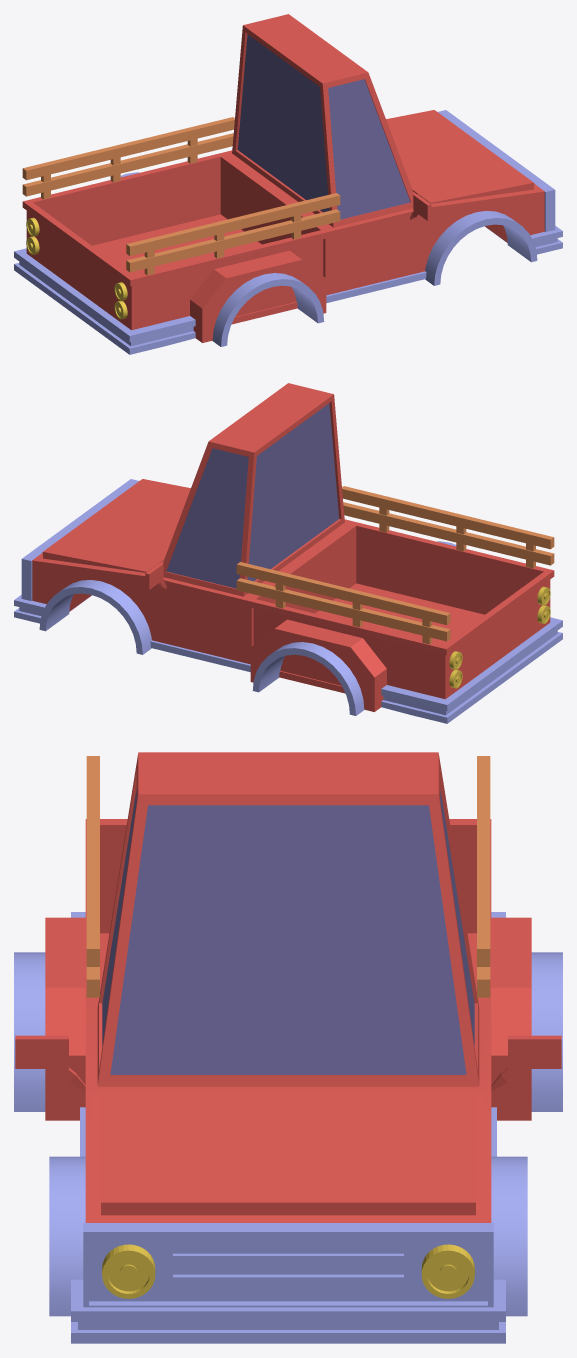
File: Truck.fbx
3 views of the same model, one above another, from view 1: azimuth 30°, elevation 25°; view 2: azimuth 150°, elevation 25°; view 3: azimuth 270°, elevation 25° (orthographic). The views are drawn at different scales.
Parts seen in each view (by area): view 1: Cube.001; view 2: Cube.001; view 3: Cube.001.
Part boxes in pixels (<box>): Cube.001: <box>14,14,562,354</box>; Cube.001: <box>14,383,562,723</box>; Cube.001: <box>14,752,562,1343</box>.
Bounding box in the file's own units: 587 × 267 × 342.
